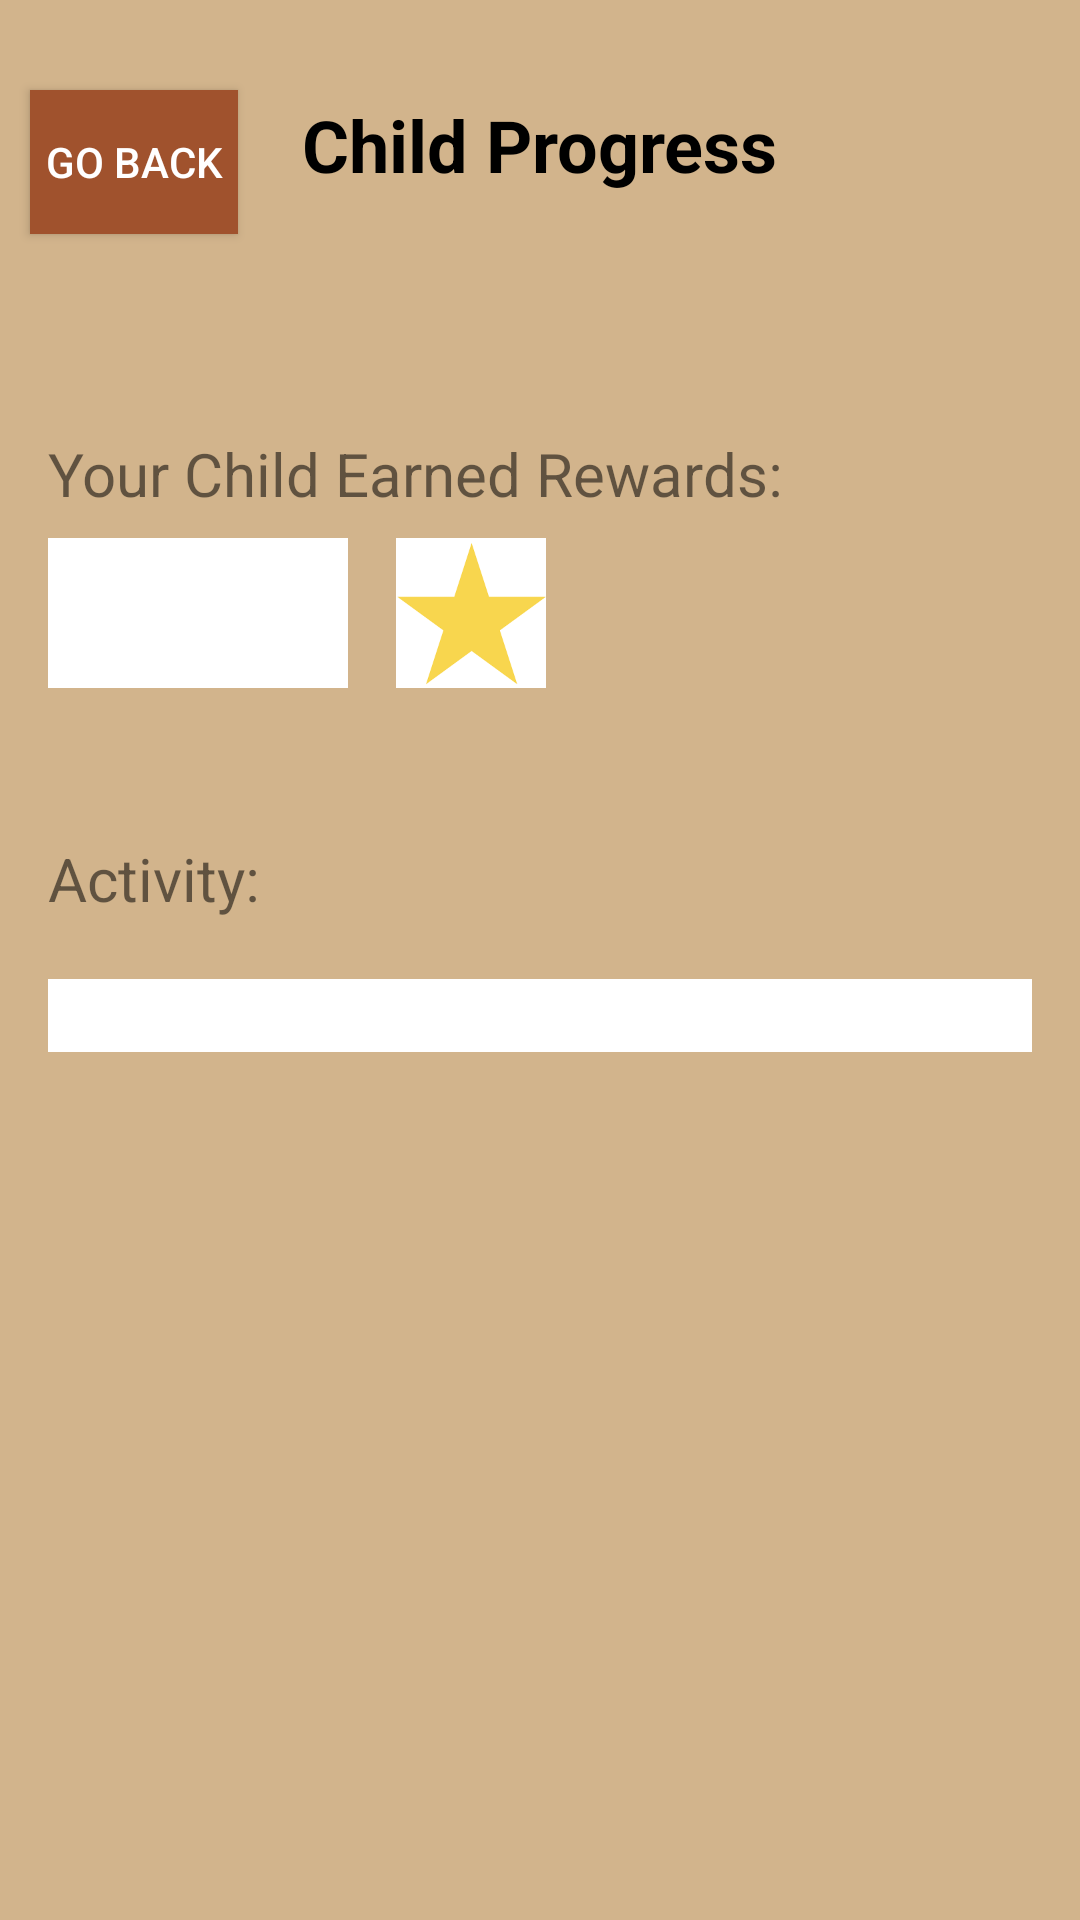

Where icons sit on this 1080w x 1920h app screen, as (x1, y1, x2, y2):
star ccp: (396, 538, 546, 688)
